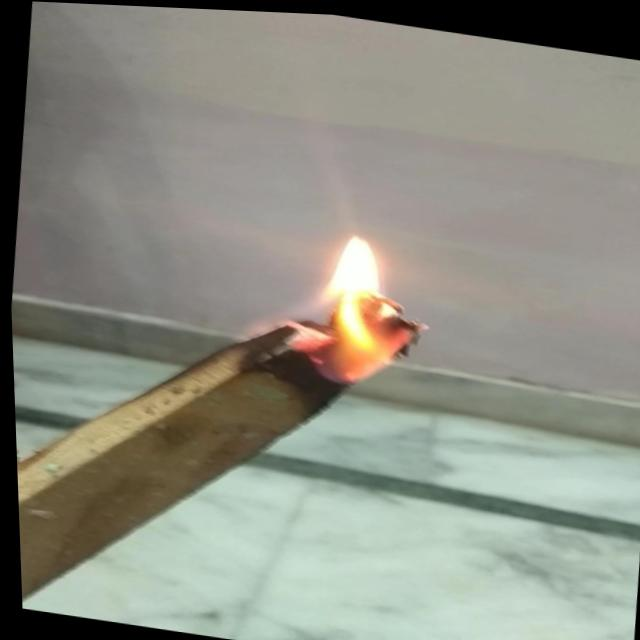fire: (233, 207, 449, 396)
